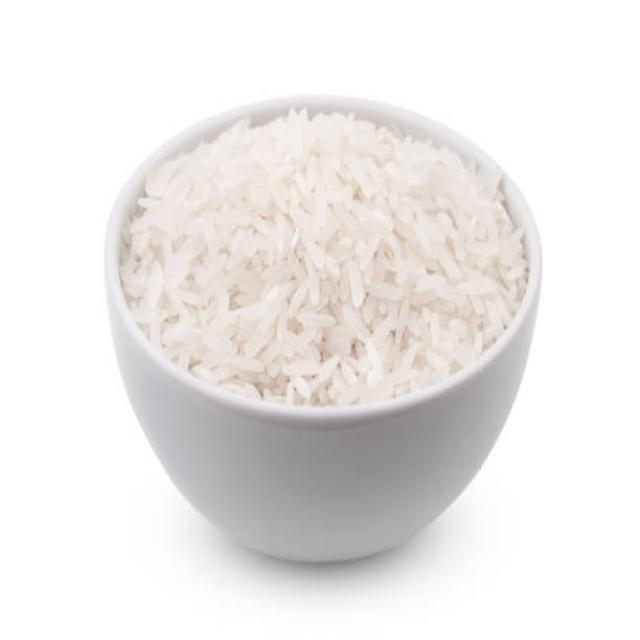rice: (120, 108, 532, 407)
